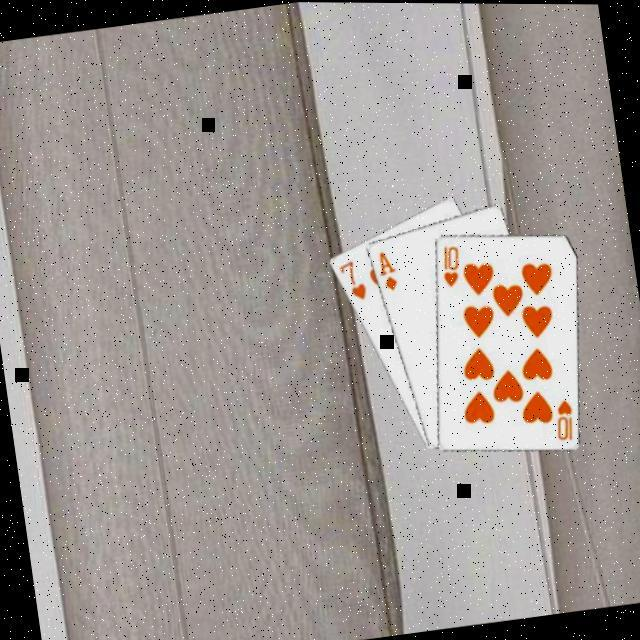10H: (438, 243, 468, 292), (552, 396, 582, 445)
7H: (337, 256, 373, 306)
AD: (375, 248, 403, 295)
